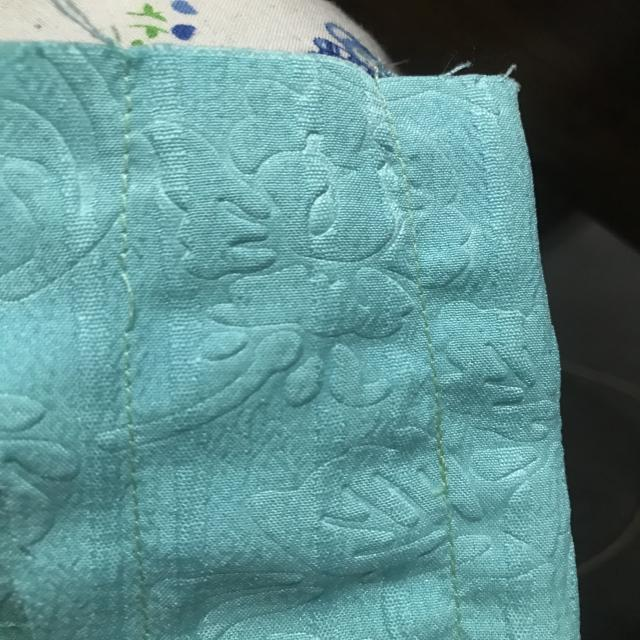good: (112, 382, 147, 467)
skip: (107, 260, 153, 350)
